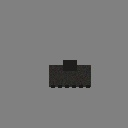armoured_vehicle: (49, 65, 91, 87)
